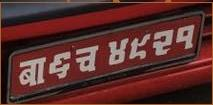1: (175, 22, 197, 53)
2: (152, 27, 175, 59)
4: (106, 37, 130, 68)
6: (47, 48, 74, 84)
9: (129, 31, 152, 64)
ba: (16, 54, 48, 89)
cha: (73, 43, 101, 76)
